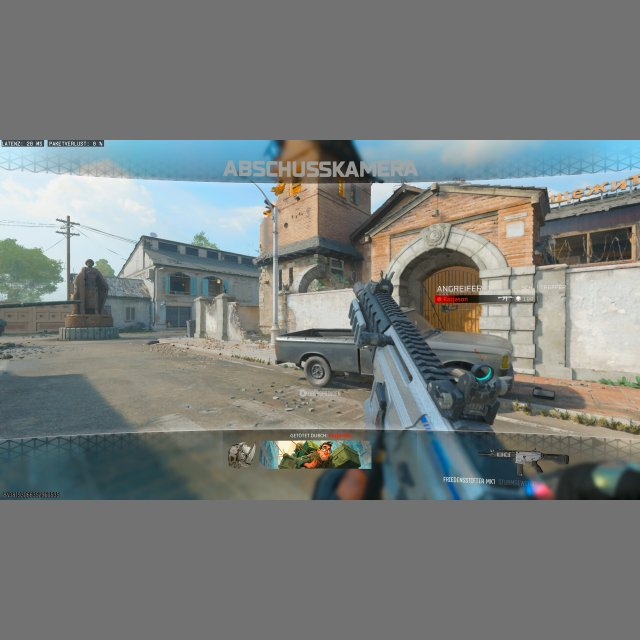head: (85, 259, 94, 268)
